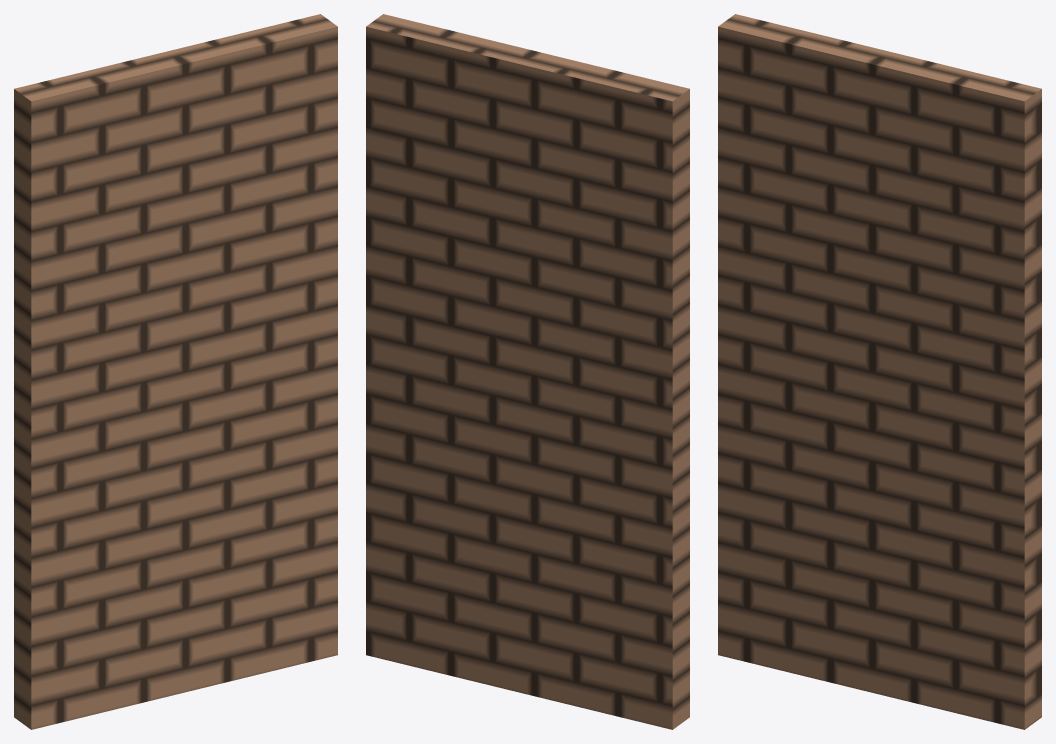
Rendered from SM_wall_brick_02.fbx.
3 views of the same model, side by side, from view 1: azimuth 30°, elevation 25°; view 2: azimuth 150°, elevation 25°; view 3: azimuth 330°, elevation 25° (orthographic).
Visible parts, largest first — view 1: wall_brick_02; view 2: wall_brick_02; view 3: wall_brick_02.
Boxes of the visible parts, x1,y1,x2,y2 form: wall_brick_02: (14, 14, 337, 729); wall_brick_02: (366, 14, 689, 729); wall_brick_02: (718, 14, 1041, 729).
Bounding box in the file's own units: 128 × 250 × 12.45.
1 material, 1 textured.
